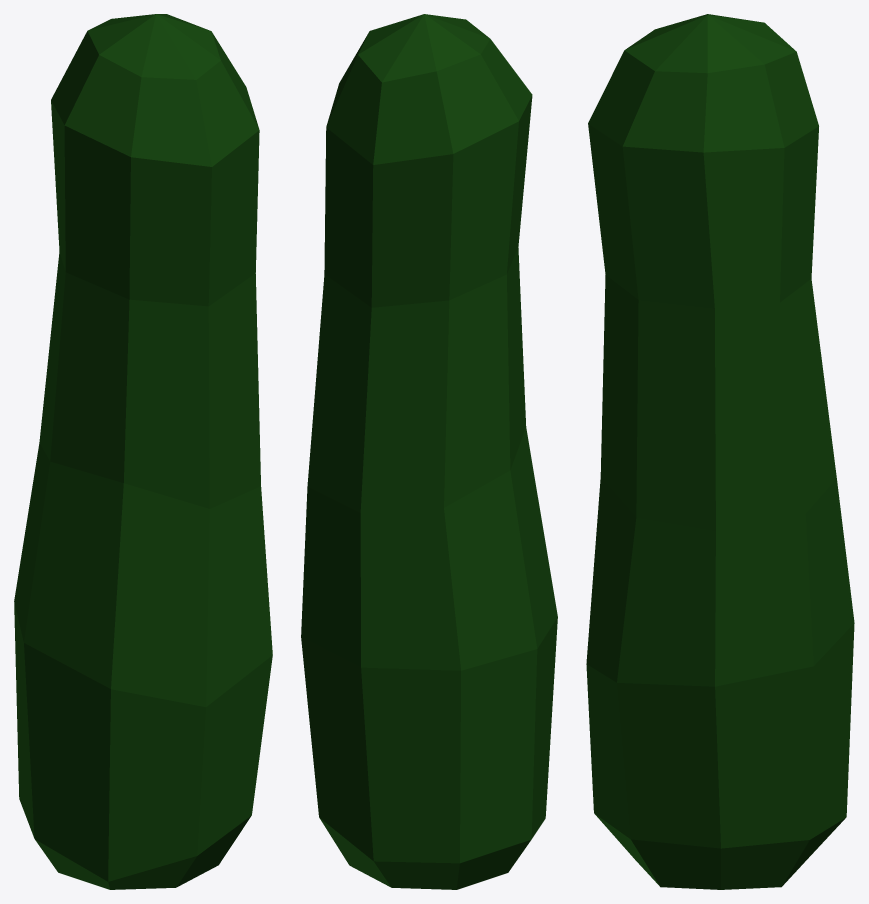
The model's file is food_pickle.FBX.
The picture shows the model from 3 angles, left to right: view 1: azimuth 30°, elevation 25°; view 2: azimuth 150°, elevation 25°; view 3: azimuth 270°, elevation 25°; orthographic projection. The views are drawn at different scales.
Visible parts, largest first — view 1: food_pickle; view 2: food_pickle; view 3: food_pickle.
Part boxes in pixels (bbox=[...]): food_pickle: bbox=[14, 14, 272, 889]; food_pickle: bbox=[301, 14, 557, 889]; food_pickle: bbox=[586, 14, 854, 889].
Bounding box in the file's own units: 60.77 × 221 × 60.96.
